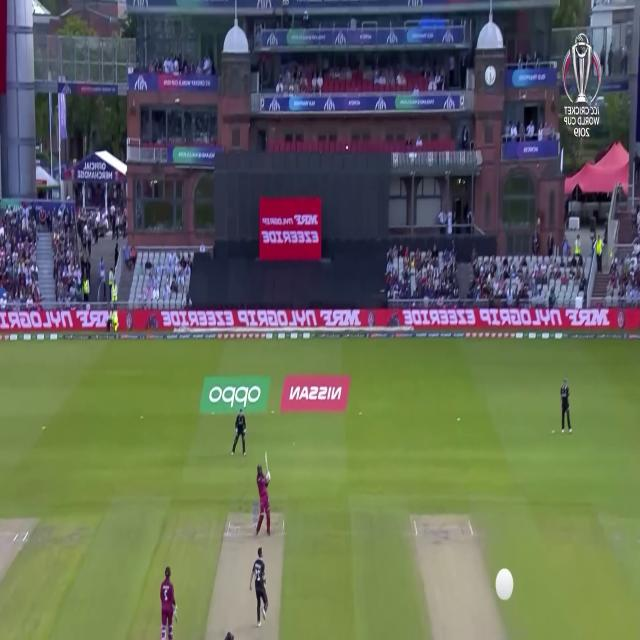ball: (344, 141, 349, 151)
